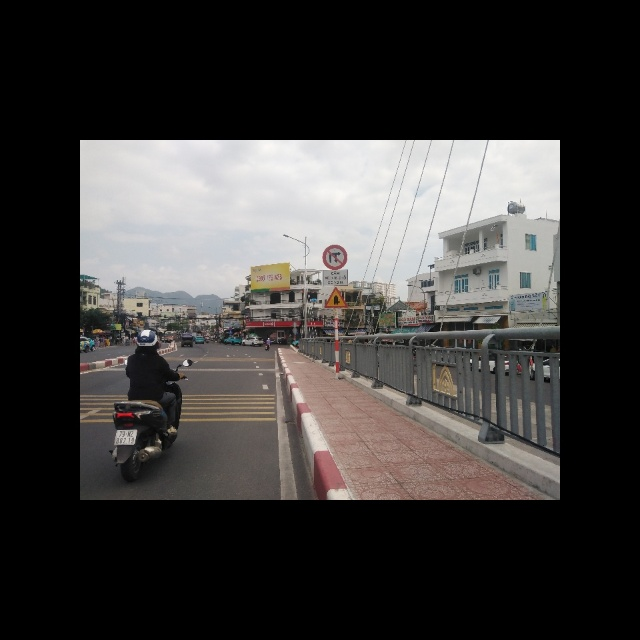Cấm quay đầu và rẽ phải: (322, 244, 348, 270)
Giao nhau với đường không ưu tiên: (325, 287, 348, 308)
